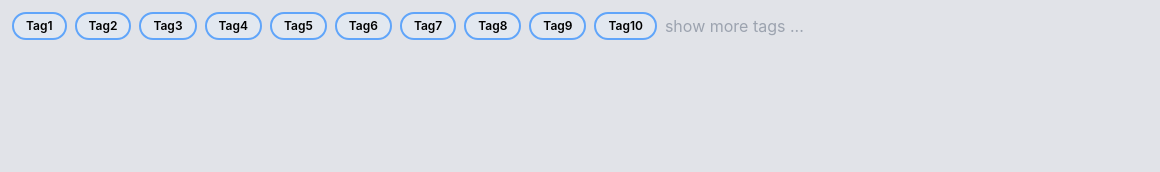
PopularTags Component - Working Tests › toggles show more/less tags functionality
Expected: the button "Tag1" is shown, [12, 12, 66, 40]
Expected: the button "Tag10" is shown, [594, 12, 657, 40]
Click show more
Click the button "show more tags ..." at (734, 26), box [665, 12, 804, 40]
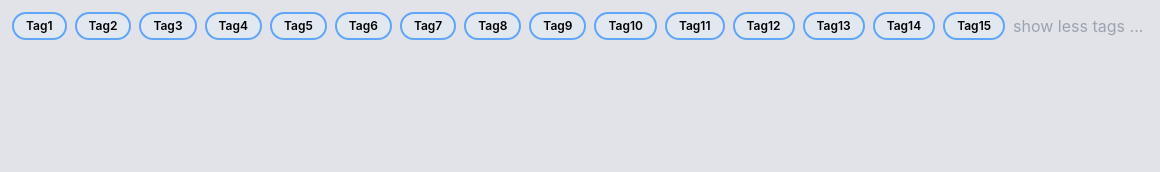
Expected: the button "Tag11" is shown, [665, 12, 724, 40]
Expected: the button "Tag15" is shown, [943, 12, 1005, 40]
Expected: the button "show less tags ..." is shown
Click show less
Click the button "show less tags ..." at (1078, 26), box [1013, 12, 1143, 40]
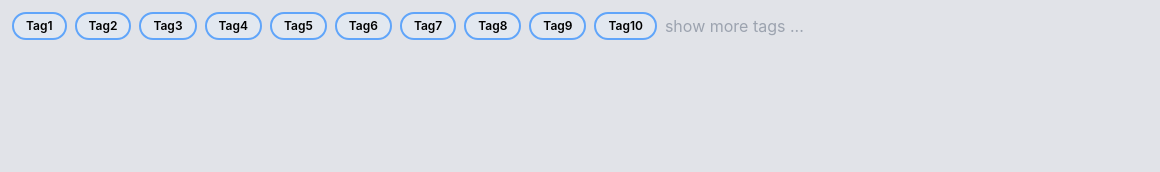
Expected: the button "Tag11" is gone
Expected: the button "show more tags ..." is shown, [665, 12, 804, 40]
